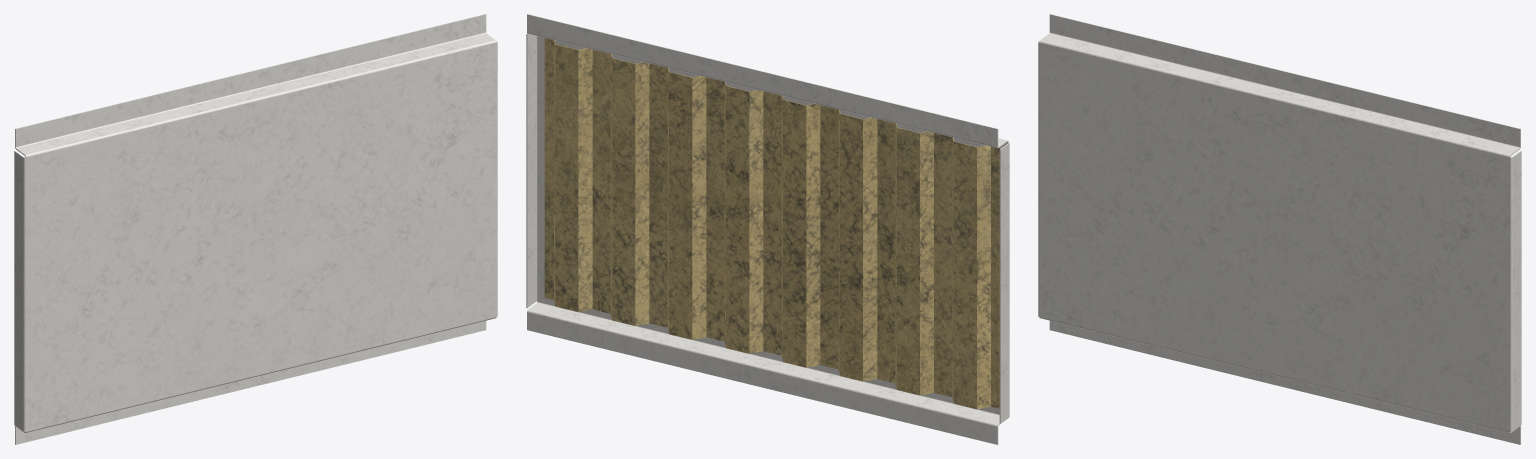
The model's file is Classic2.glb.
3 renders of one model, left to right at view 1: azimuth 30°, elevation 25°; view 2: azimuth 150°, elevation 25°; view 3: azimuth 330°, elevation 25°, orthographic.
Visible parts, largest first — view 1: Geom3D; view 2: Geom3D (×2); view 3: Geom3D.
Boxes of the visible parts, x1,y1,x2,y2 form: Geom3D: (14, 14, 497, 444); Geom3D (×2): (526, 14, 1009, 444); Geom3D: (1038, 14, 1521, 444).
Size of the model in its own units: 0.5 by 0.318 by 0.02.
2 materials, 2 textured.
